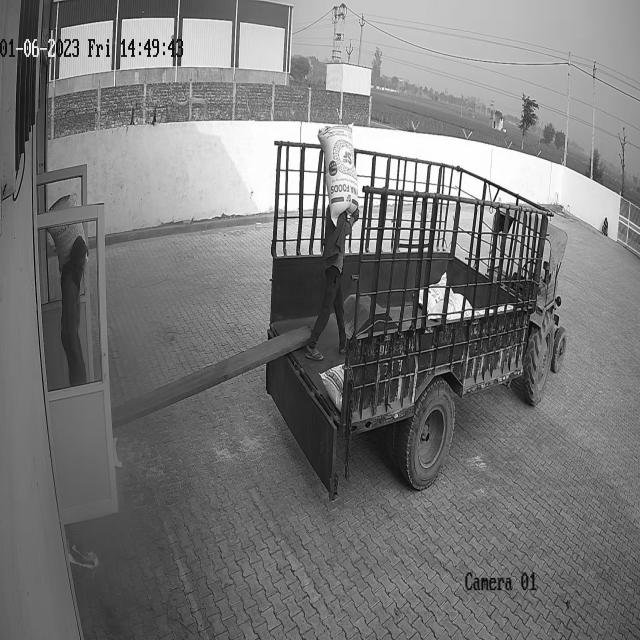sack: (317, 124, 357, 226), (47, 193, 87, 271)
